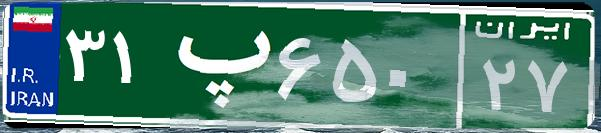0: (385, 28, 445, 110)
1: (110, 28, 158, 105)
2: (475, 38, 525, 113)
3: (57, 26, 110, 107)
5: (330, 28, 385, 110)
6: (273, 28, 330, 110)
7: (525, 38, 570, 115)
پ: (158, 15, 273, 115)
